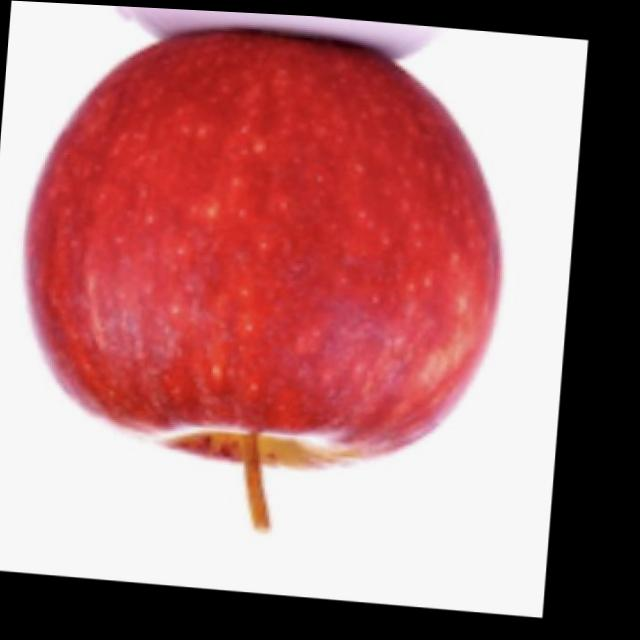Apple: (6, 10, 521, 549)
